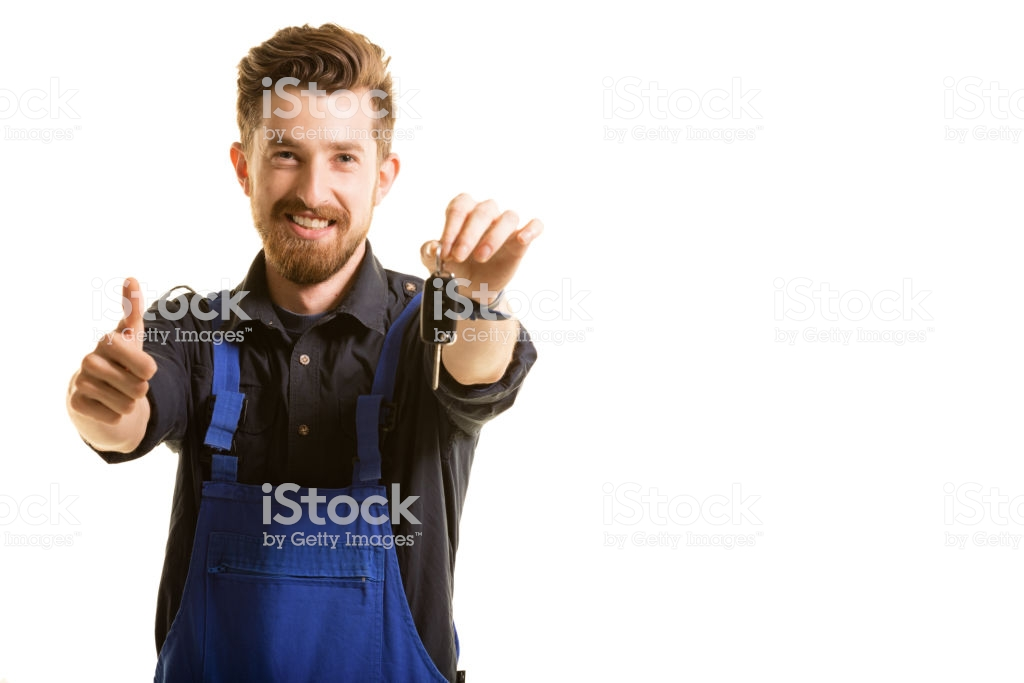thumbsup: (69, 275, 160, 430)
